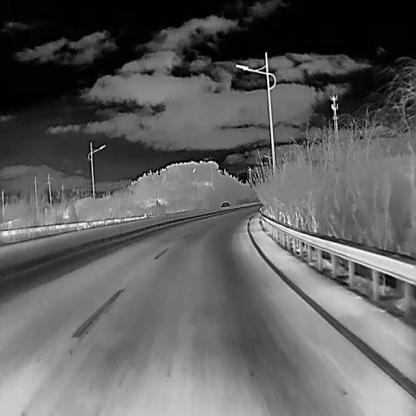car: (222, 202, 228, 207)
